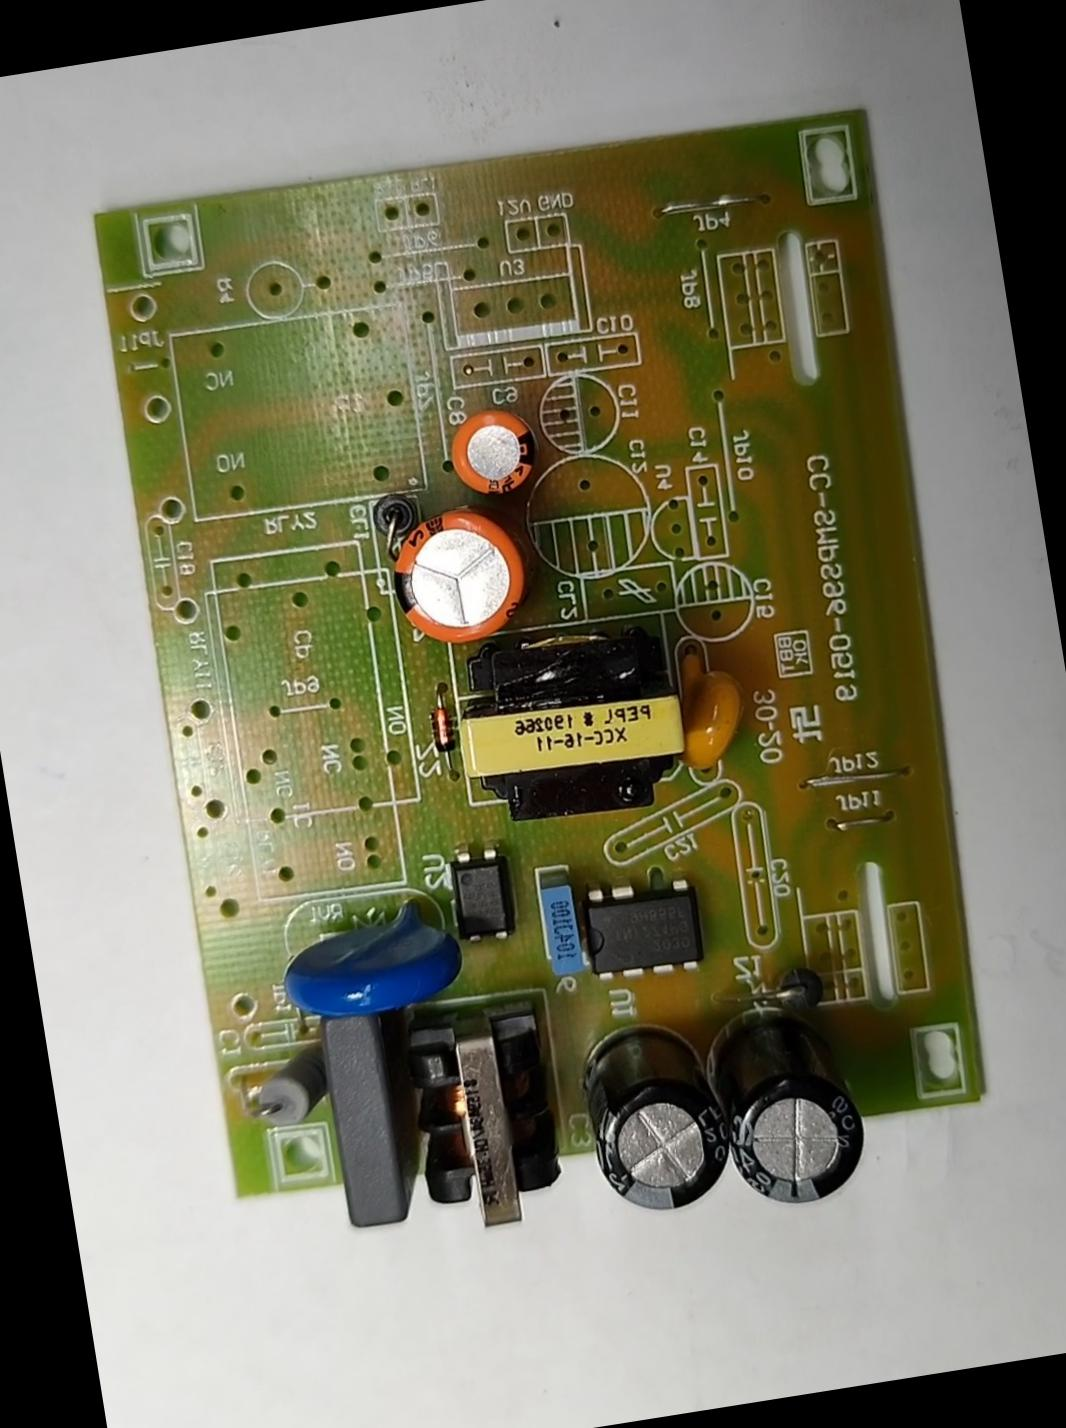Cap1: (381, 493, 536, 653)
Cap2: (441, 399, 548, 503)
Cap3: (574, 1006, 738, 1224)
Cap4: (711, 993, 872, 1216)
MOSFET: (573, 867, 710, 984)
Mov: (270, 885, 466, 1028)
Resistor: (243, 1036, 334, 1136)
Transformer: (445, 615, 693, 831), (393, 1000, 574, 1243)
